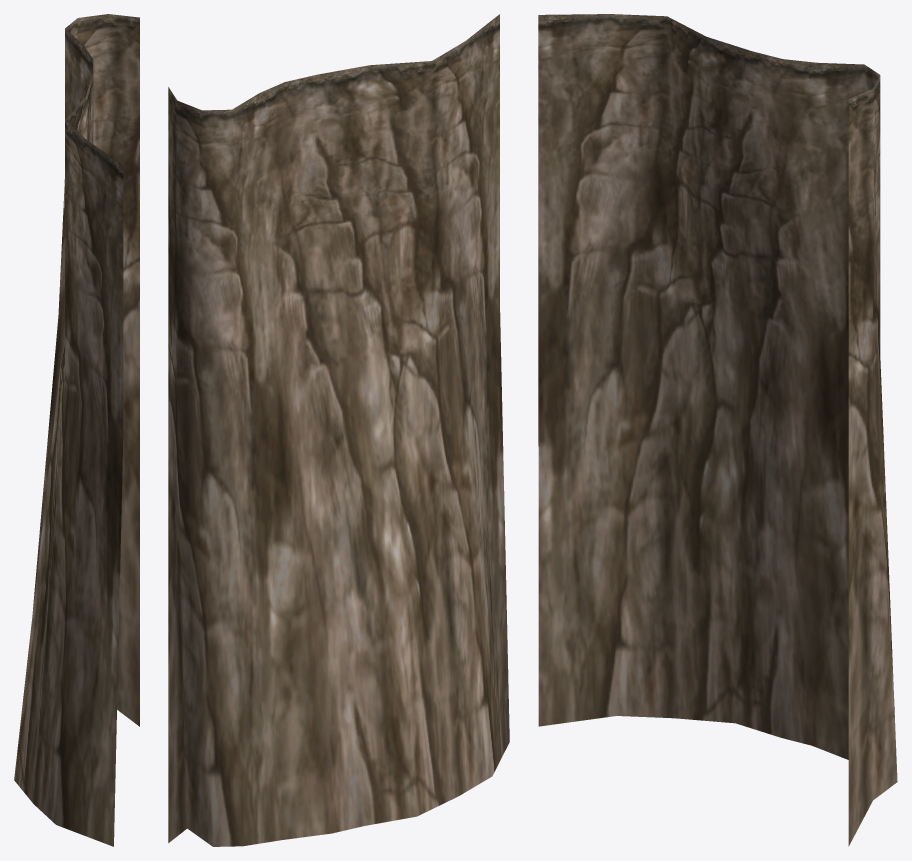
Rendered from OVERHILL_A_01_LINE61.fbx.
3 renders of one model, left to right at view 1: azimuth 30°, elevation 25°; view 2: azimuth 150°, elevation 25°; view 3: azimuth 270°, elevation 25°, orthographic. The views are drawn at different scales.
Visible parts, largest first — view 1: OVERHILL_A_01_LINE61; view 2: OVERHILL_A_01_LINE61; view 3: OVERHILL_A_01_LINE61.
Boxes of the visible parts, x1,y1,x2,y2 form: OVERHILL_A_01_LINE61: (14,14,139,846); OVERHILL_A_01_LINE61: (168,14,509,846); OVERHILL_A_01_LINE61: (538,14,897,846).
Bounding box in the file's own units: 48501 × 169645 × 73824.
Materials: 2 (2 with a texture image).
